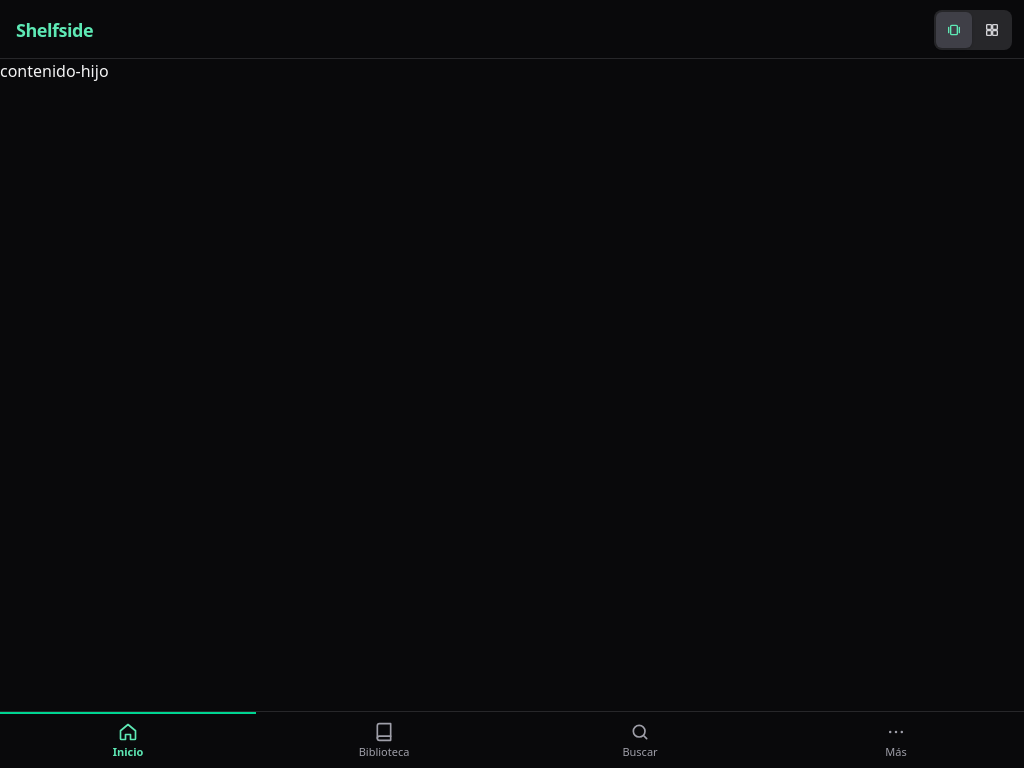
Test: +layout (arranque) › en móvil muestra bottom nav y la hoja Más
The width and height of the screenshot is (1024, 768).
expect the text "contenido-hijo" is shown: met, box top-left (0, 60), bottom-right (109, 82)
expect the navigation bar with test id "bottom-nav" is shown: met, box top-left (0, 711), bottom-right (1023, 767)
Click the button with test id "nav-more-tab" at (896, 740), box top-left (768, 712), bottom-right (1023, 767)
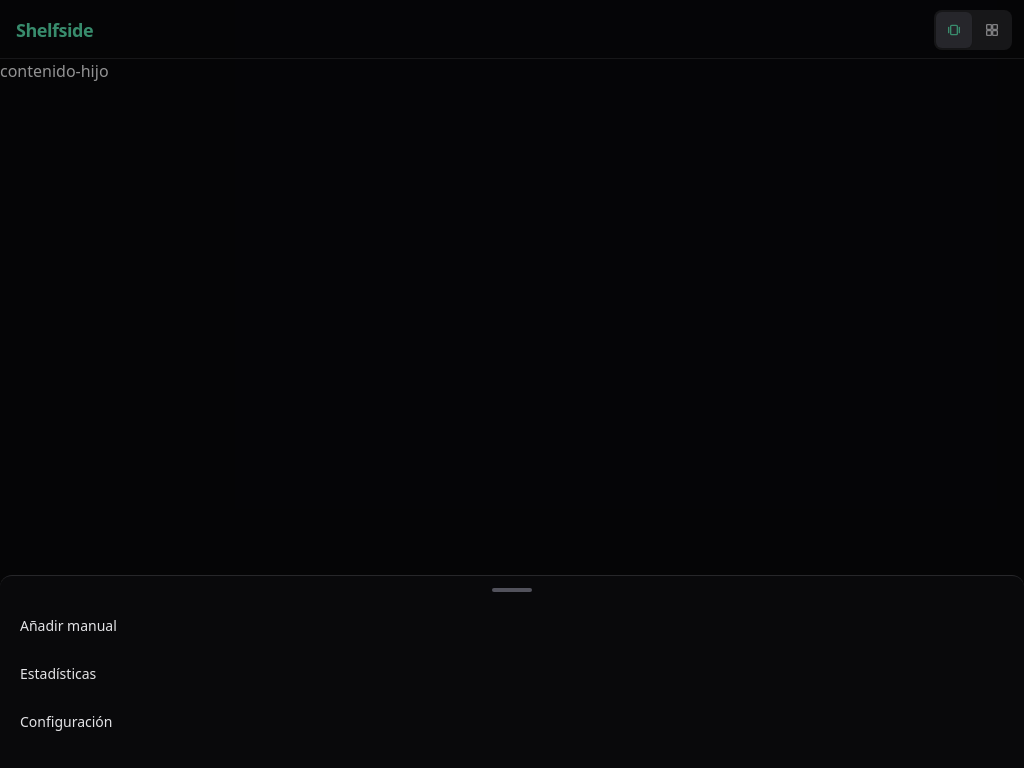
expect the element with test id "more-sheet" is shown: met
expect the link "Configuración" is shown: met, box top-left (20, 712), bottom-right (112, 731)
expect the link "Estadísticas" is shown: met, box top-left (20, 664), bottom-right (96, 683)
